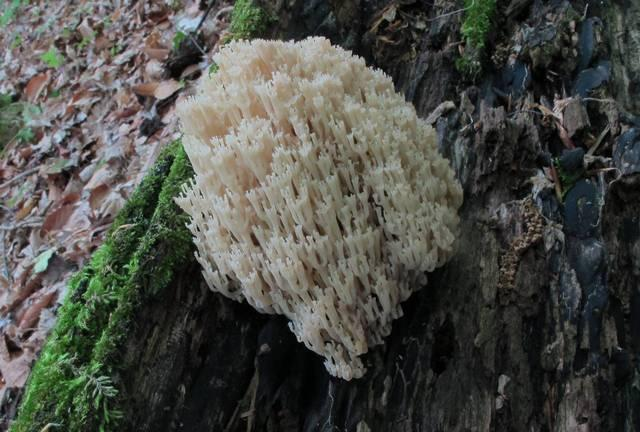Edible Mushroom: (171, 33, 465, 381)
